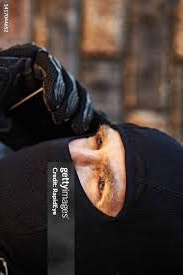terrorist: (7, 22, 183, 235)
